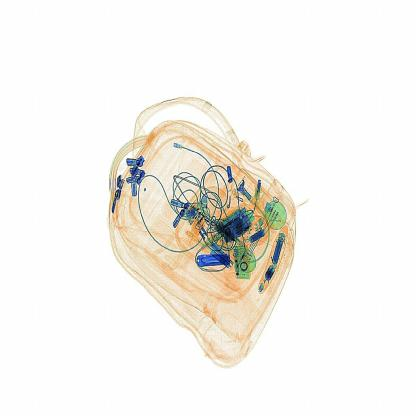knife: (187, 242, 242, 273)
